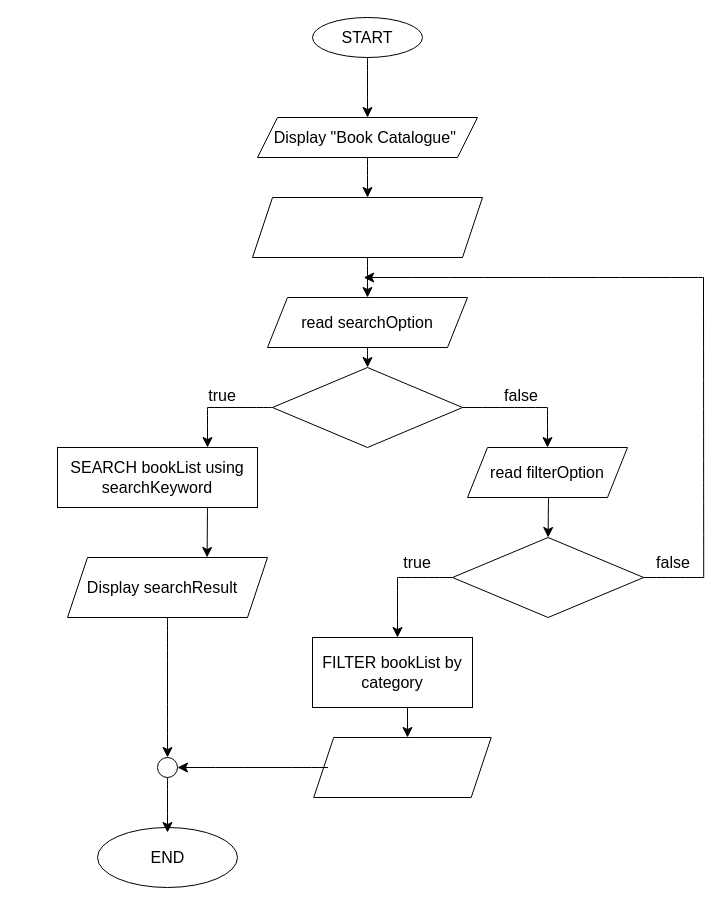
Image size: 726x905. Some labels were removed from this diagram. Each missing label, with the centre of its shape:
Display filteredResult: point (402, 767)
Display list of bookTitle, bookPrice, bokkCategory: point (367, 227)
filterOption = category: point (548, 577)
searchOption = searchKeyword: point (367, 407)
